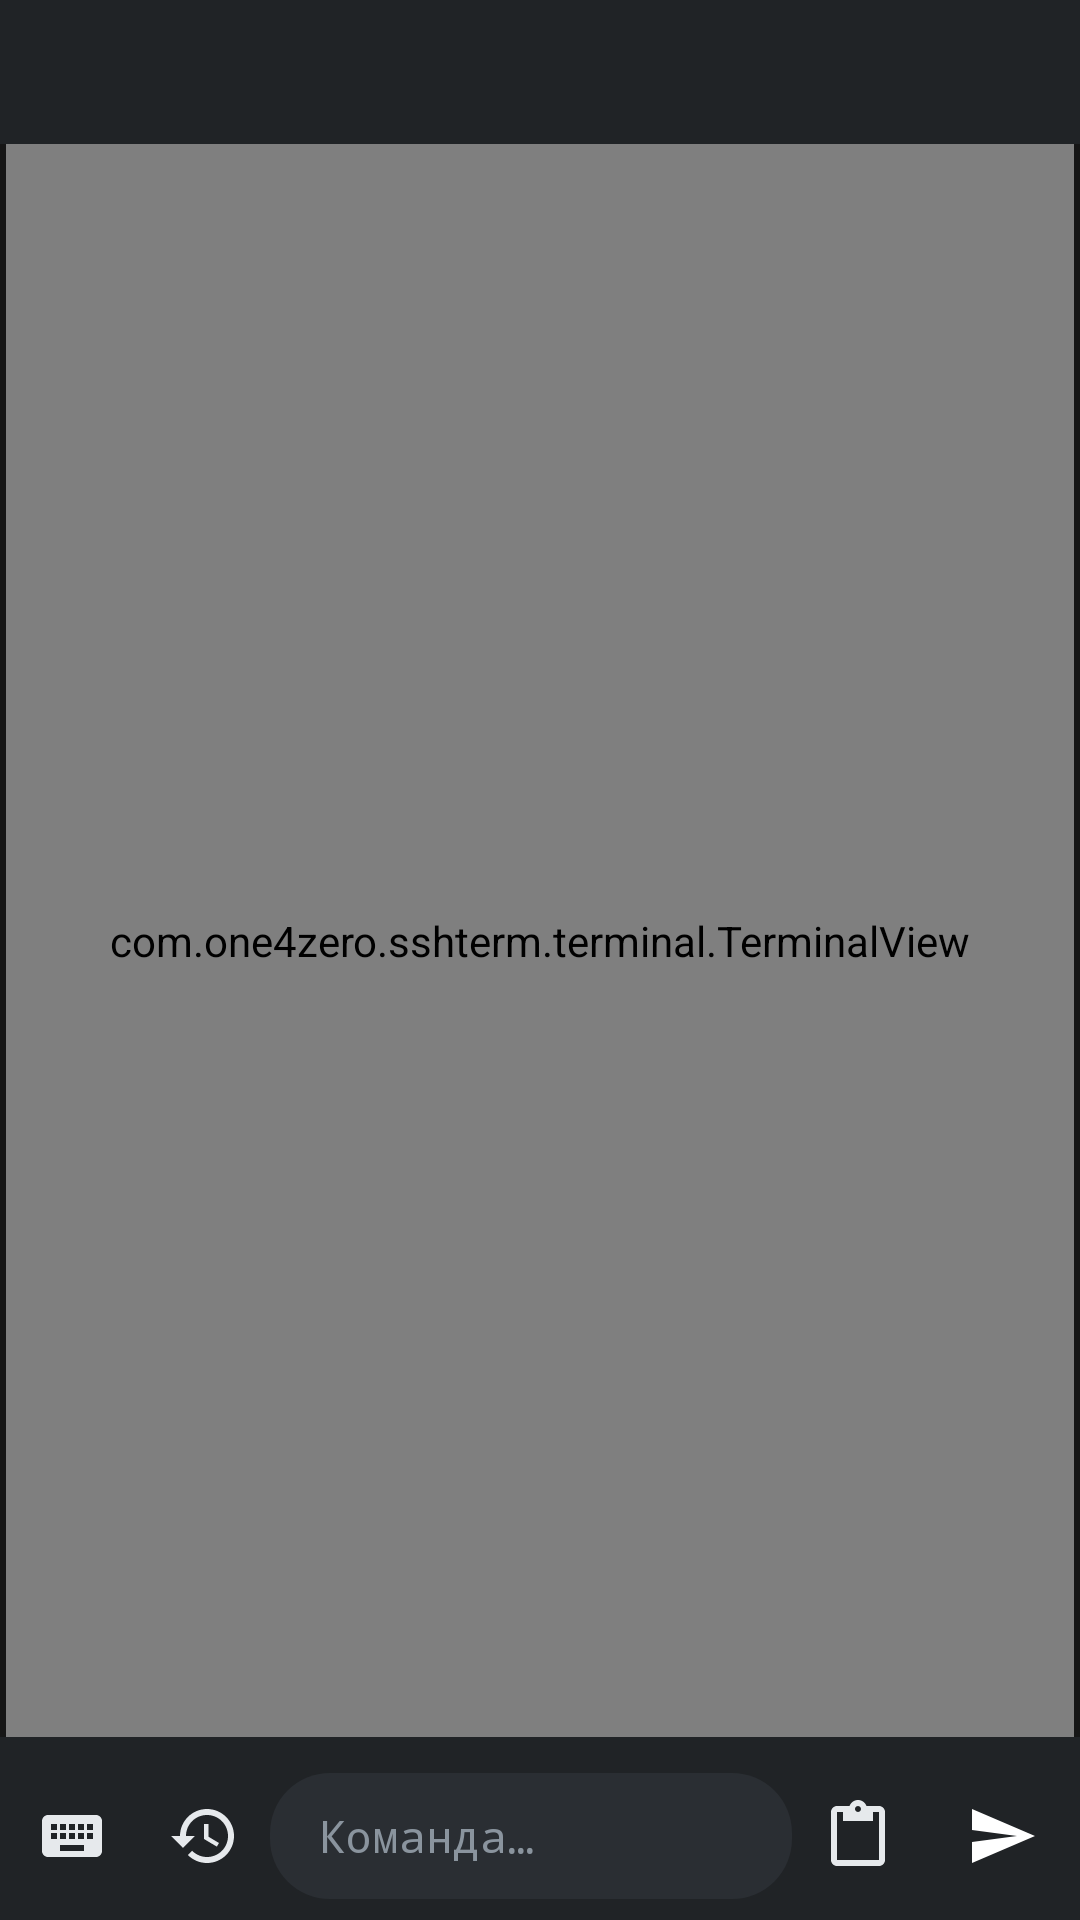

Icon bounding boxes for this 1080*1920 phone screenshot, format BBox(x1, y1, x2, y2):
Вставить: BBox(831, 1800, 885, 1866)
История команд: BBox(171, 1809, 234, 1863)
Отправить: BBox(972, 1809, 1035, 1863)
Режим ввода: BBox(42, 1815, 102, 1857)
